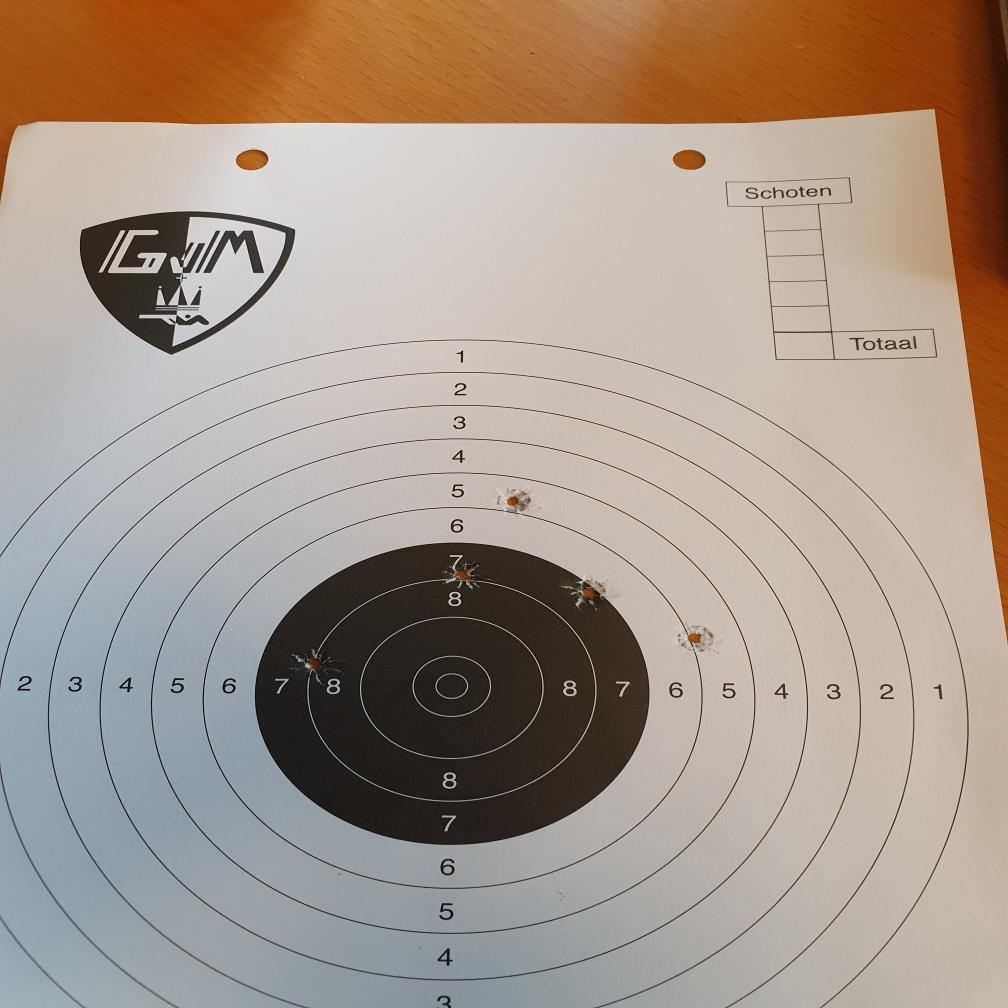6: (677, 623, 726, 658), (492, 486, 540, 518)
7: (564, 570, 620, 607)
8: (442, 556, 488, 591), (295, 647, 339, 681)
Target: (0, 336, 972, 1008)
black_contour: (253, 540, 651, 844)
